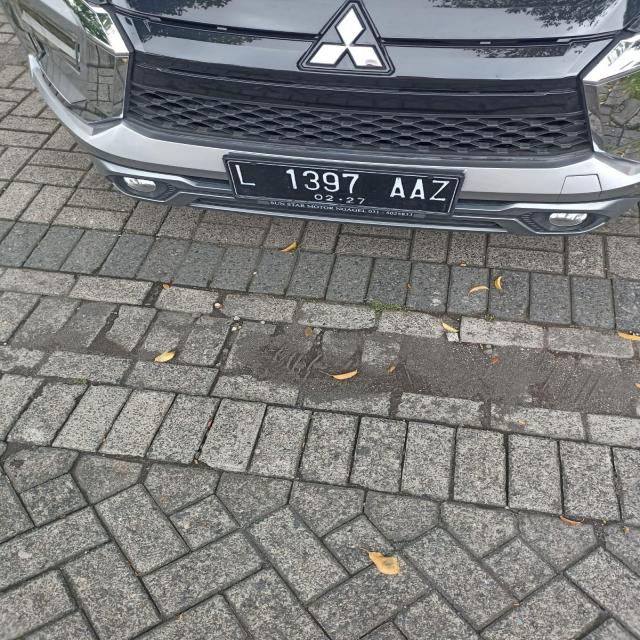license-plate: (231, 161, 465, 218)
